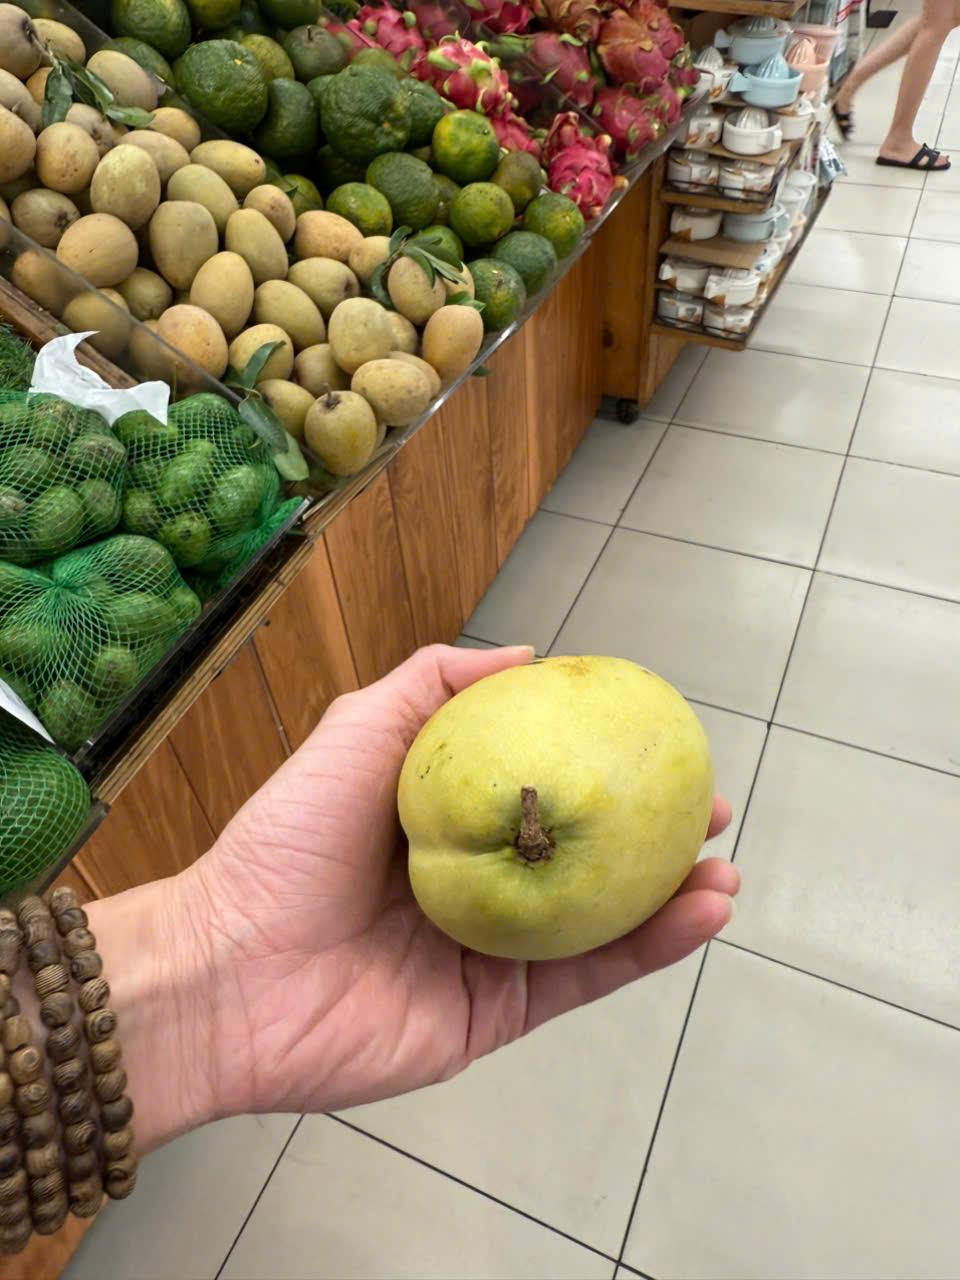mango: (380, 645, 720, 966)
